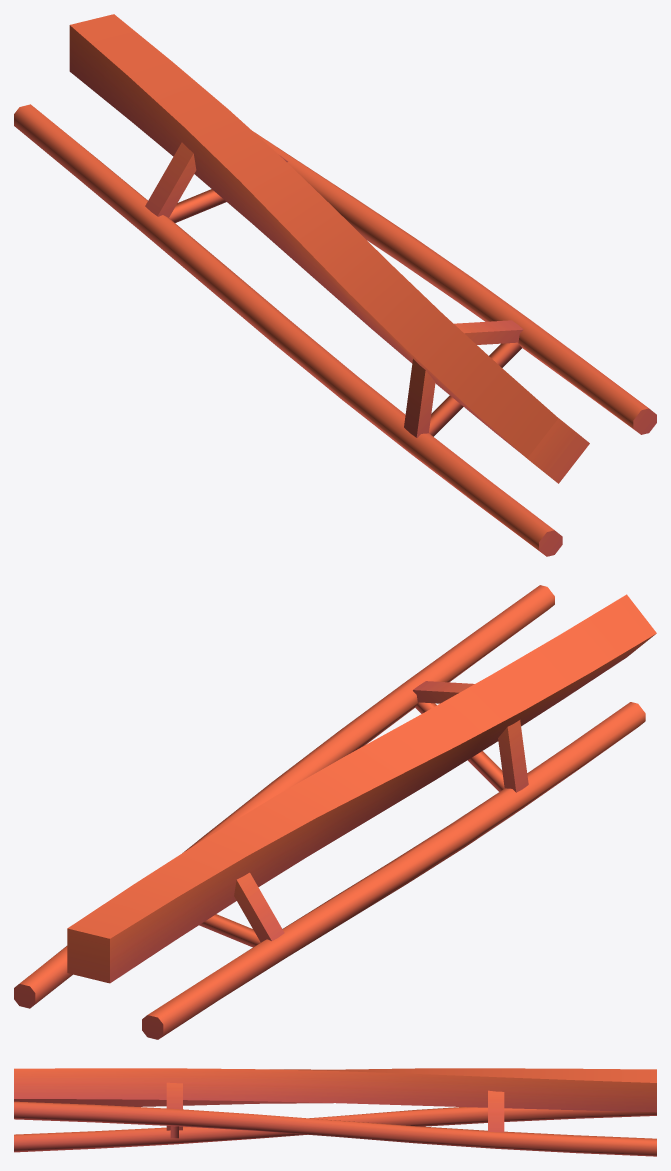
Rendered from kenney-coaster-coaster-hanging-straight-skew-right.glb.
3 views of the same model, one above another, from view 1: azimuth 30°, elevation 25°; view 2: azimuth 150°, elevation 25°; view 3: azimuth 270°, elevation 25° (orthographic). The views are drawn at different scales.
Visible parts, largest first — view 1: coaster-hanging-straight-skew-right; view 2: coaster-hanging-straight-skew-right; view 3: coaster-hanging-straight-skew-right.
Part boxes in pixels (bbox=[...]): coaster-hanging-straight-skew-right: bbox=[14, 14, 656, 556]; coaster-hanging-straight-skew-right: bbox=[14, 585, 656, 1039]; coaster-hanging-straight-skew-right: bbox=[14, 1068, 656, 1156].
Size of the model in its own units: 0.7075 by 0.6421 by 4.
1 material, 1 textured.
